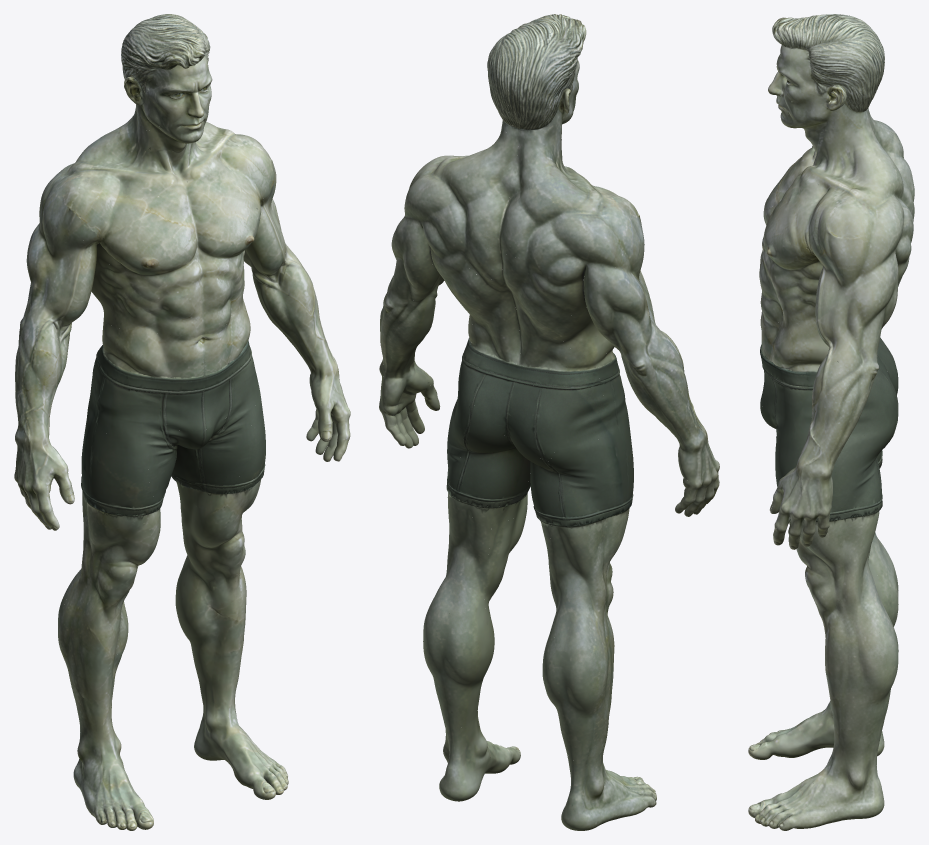
The model's file is adult-male-v4.glb.
3 views of the same model, side by side, from view 1: azimuth 30°, elevation 25°; view 2: azimuth 150°, elevation 25°; view 3: azimuth 270°, elevation 25° (orthographic).
Parts seen in each view (by area): view 1: TeachingBody; view 2: TeachingBody; view 3: TeachingBody.
Boxes of the visible parts, bbox=[...] form: TeachingBody: bbox=[14, 14, 350, 830]; TeachingBody: bbox=[379, 14, 719, 830]; TeachingBody: bbox=[748, 14, 914, 830].
Bounding box in the file's own units: 0.7868 × 1.78 × 0.3485.
1 material, 1 textured.
